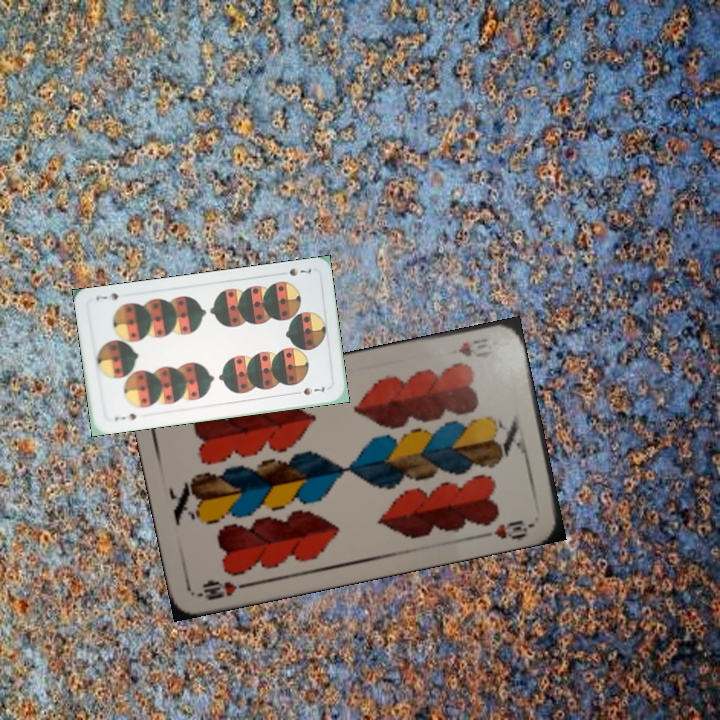H10: (194, 576, 253, 603), (454, 334, 496, 360)
S7: (275, 264, 314, 278), (111, 409, 138, 423)
